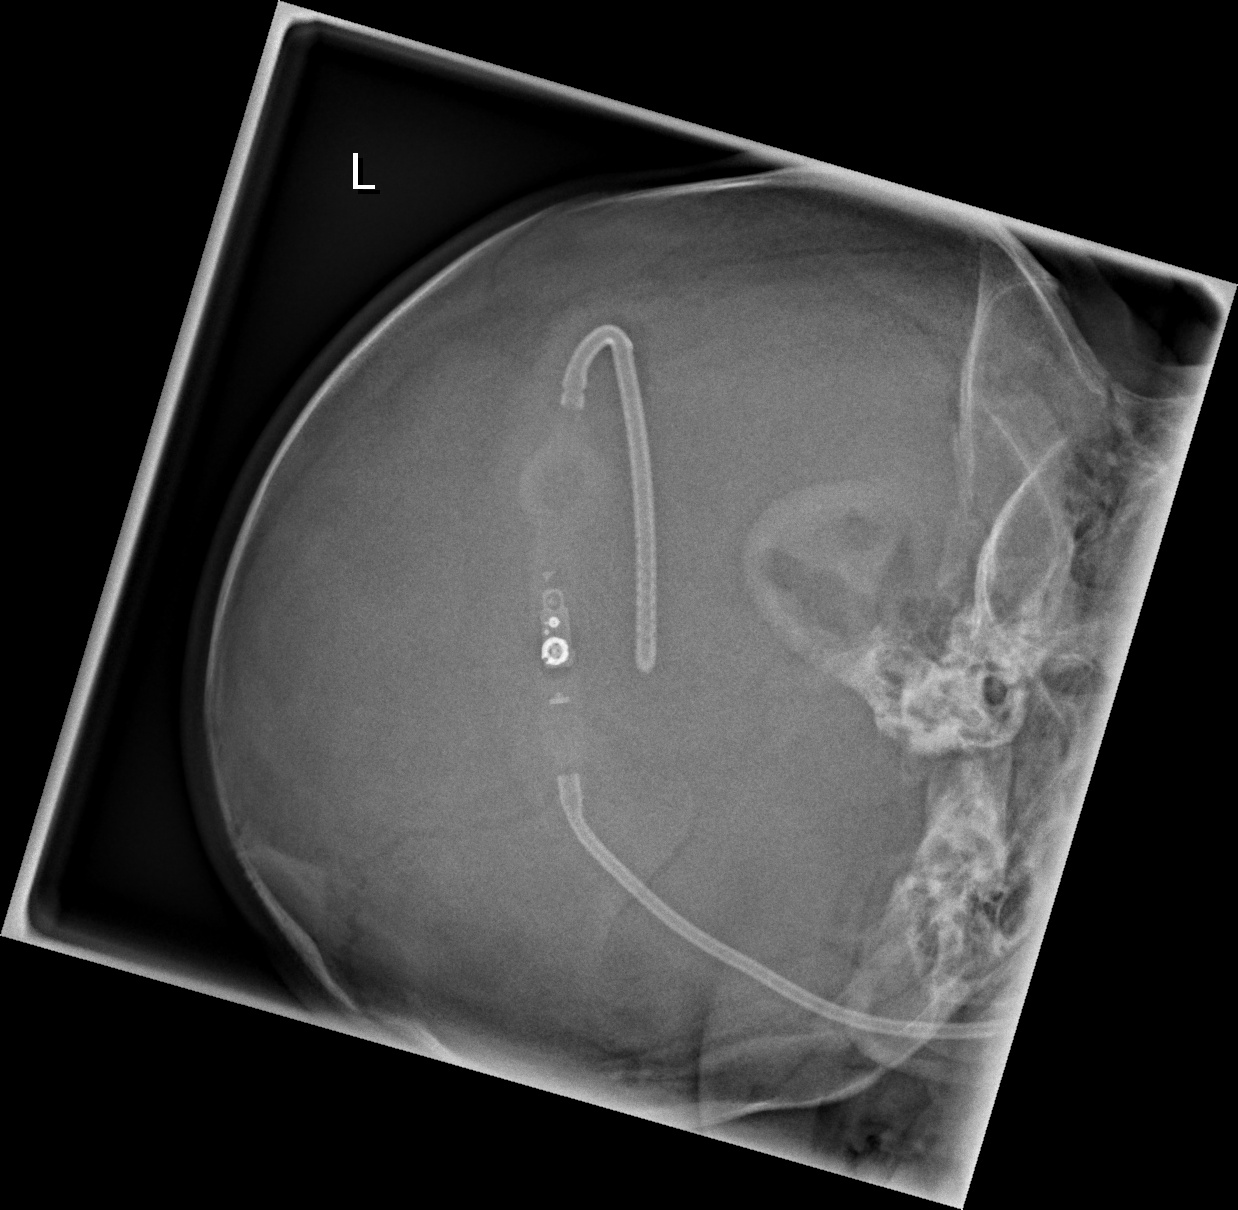Codman Hakim: (533, 603, 587, 712)
